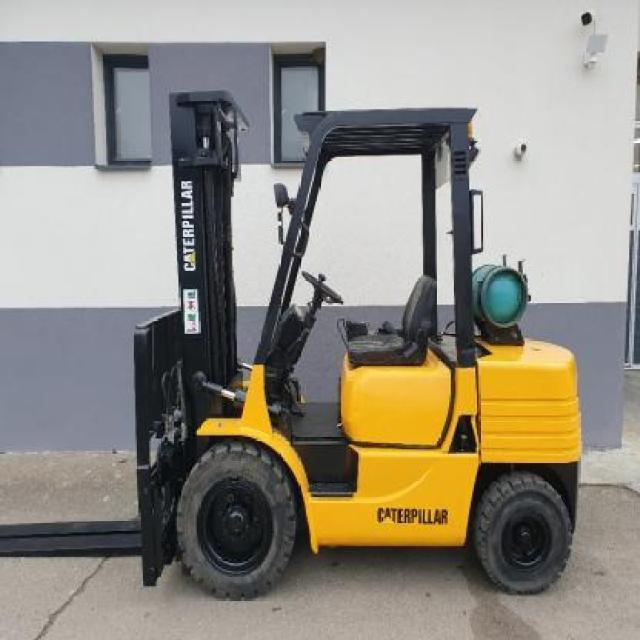forklift: (166, 105, 582, 601)
